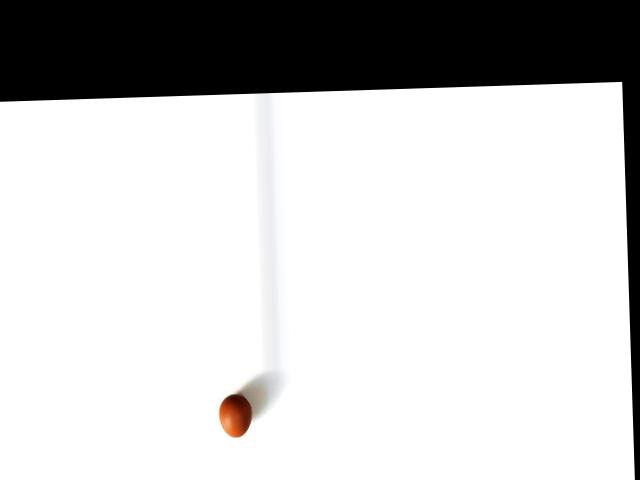egg: (218, 393, 252, 438)
